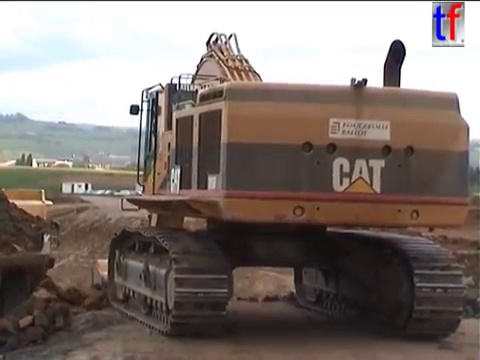excavator: (89, 29, 474, 342)
truck: (1, 184, 63, 338)
